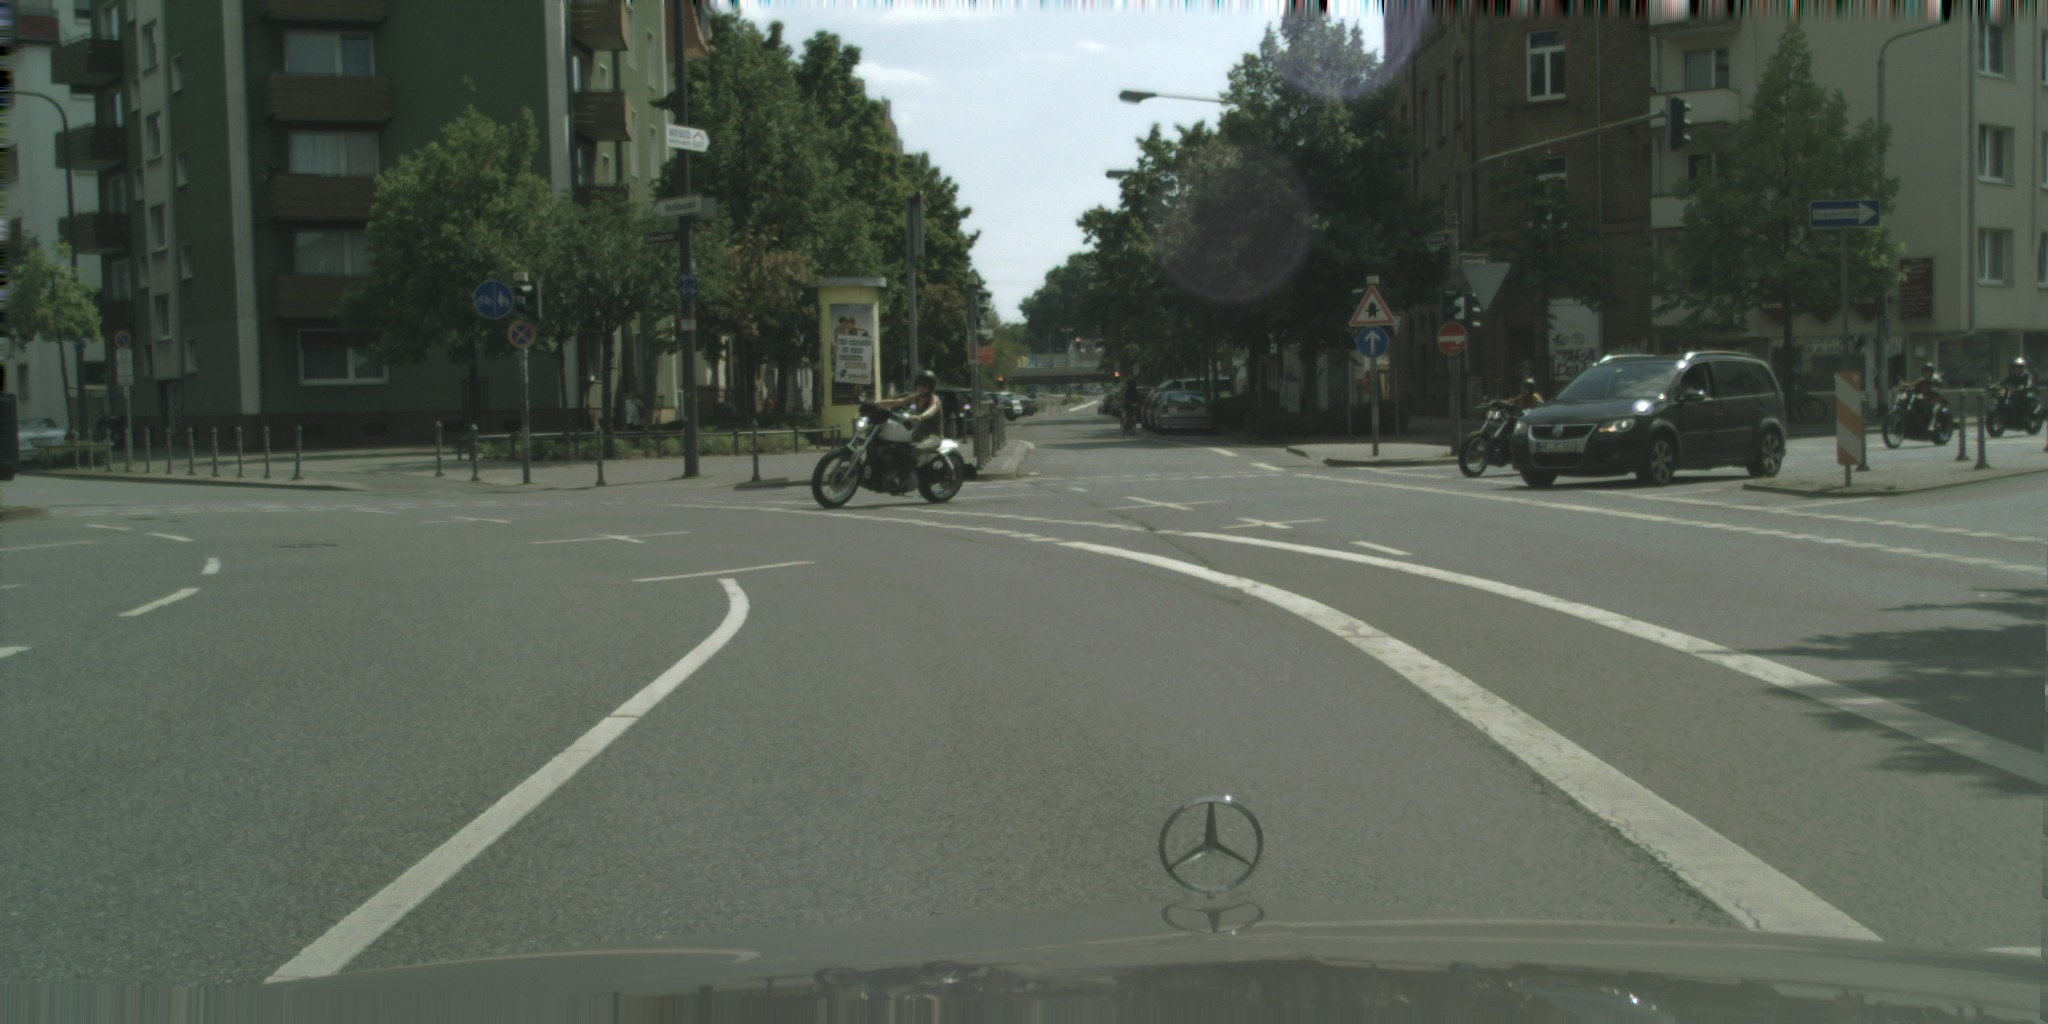bicycle: (1777, 379, 1828, 423), (1120, 399, 1138, 437)
car: (1510, 351, 1787, 488), (888, 387, 978, 438), (0, 417, 72, 464), (1154, 390, 1216, 436), (1155, 377, 1233, 407), (1138, 388, 1186, 428), (954, 390, 997, 434), (1145, 391, 1182, 431), (987, 392, 1023, 420), (977, 393, 1013, 416), (1007, 394, 1037, 416), (1102, 394, 1121, 414), (1087, 386, 1105, 394), (1098, 402, 1110, 414)
motorcycle: (812, 401, 977, 507), (1456, 399, 1527, 478), (1881, 376, 1954, 449), (1985, 383, 2044, 438), (96, 411, 125, 450)
person: (624, 391, 645, 438)
rider: (866, 370, 944, 490), (1992, 357, 2039, 418), (1912, 361, 1943, 431), (1505, 378, 1545, 427), (1119, 378, 1136, 427)
truck: (1025, 386, 1038, 399)
